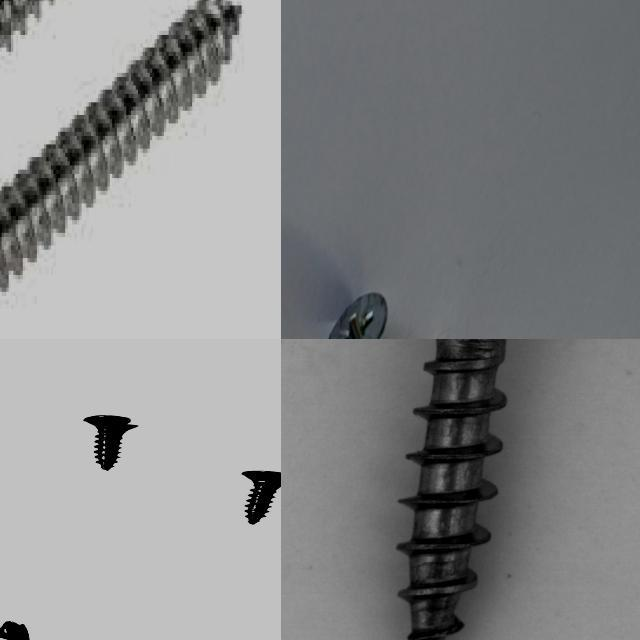Screw: (323, 339, 626, 640), (0, 0, 242, 294), (82, 415, 136, 470), (329, 292, 388, 339), (241, 470, 281, 524), (0, 621, 28, 640)
